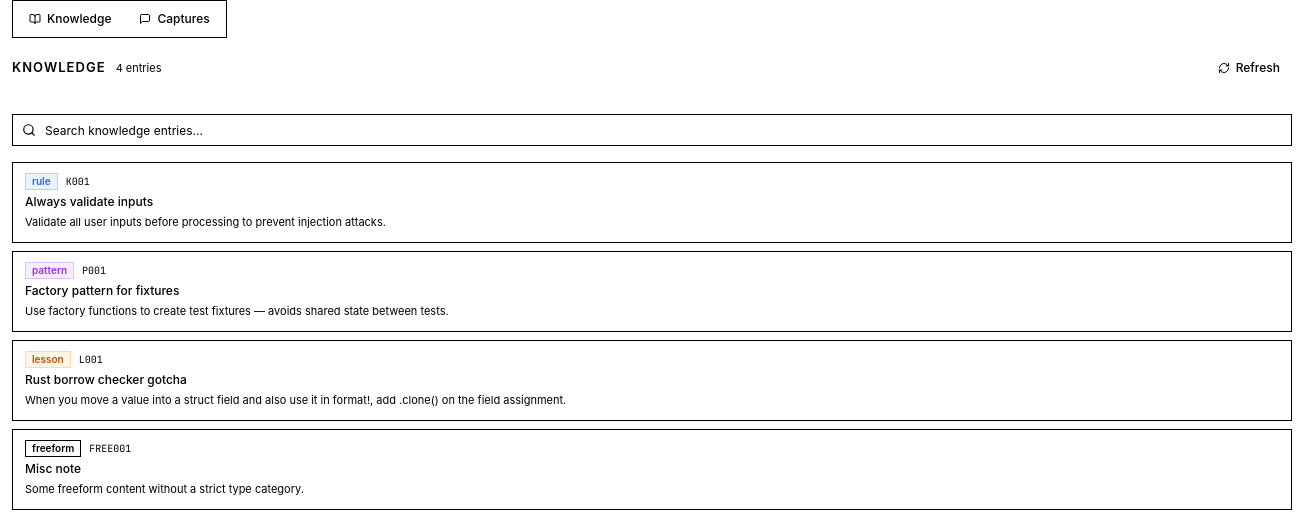
Test: KnowledgeCapturesPanel › renders captures with pending count badge
Note: Switch to captures tab
Step 1. Click the button with test id "tab-captures" → x=175, y=19, box [128, 5, 222, 33]
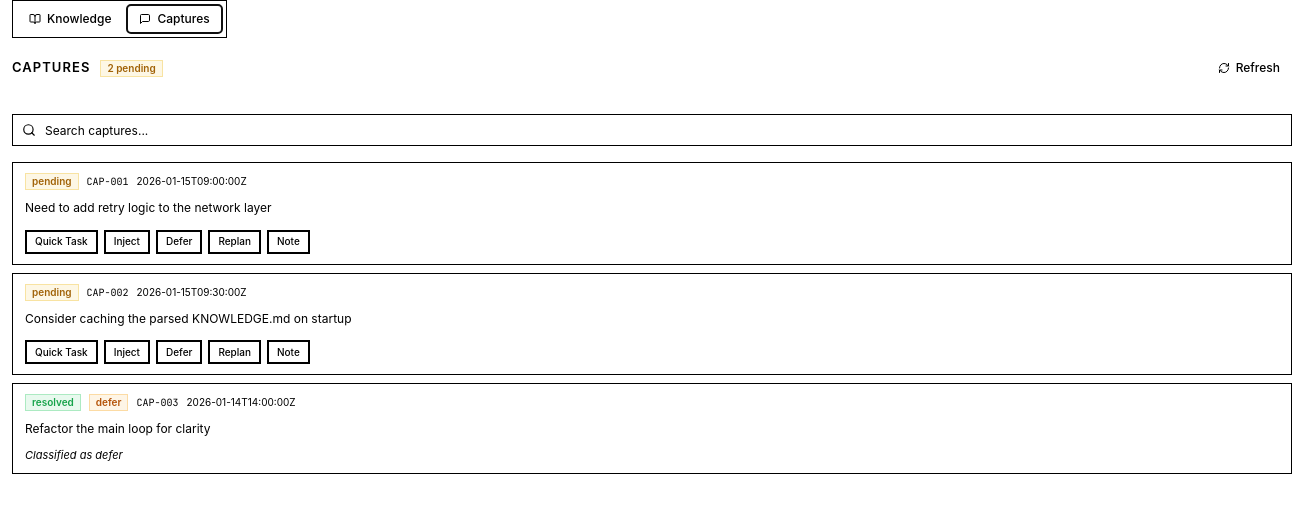
Expected: the element with test id "captures-tab-content" is shown
Expected: the text "2 pending" is shown, [100, 60, 163, 76]
Expected: the text "Need to add retry logic to the network layer" is shown, [25, 200, 272, 215]
